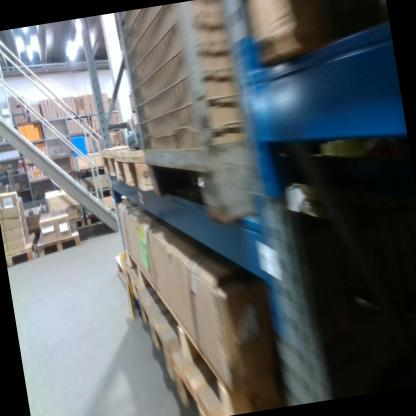pallet: (155, 272, 286, 416), (169, 349, 233, 416), (124, 248, 162, 329), (110, 141, 158, 194), (142, 307, 174, 373), (33, 219, 81, 258), (3, 229, 39, 267), (70, 160, 110, 180), (98, 144, 116, 184), (65, 213, 87, 228), (85, 208, 100, 228)
stillage: (113, 0, 268, 235)
